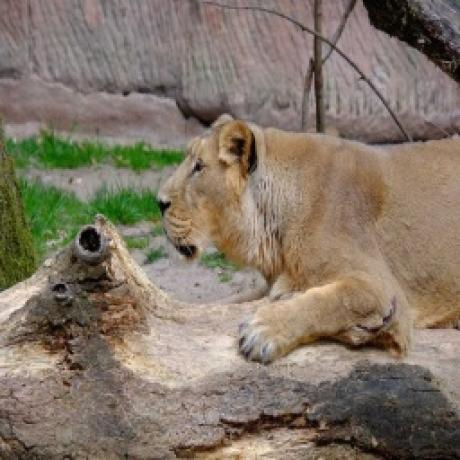Lion: (152, 106, 460, 368)
